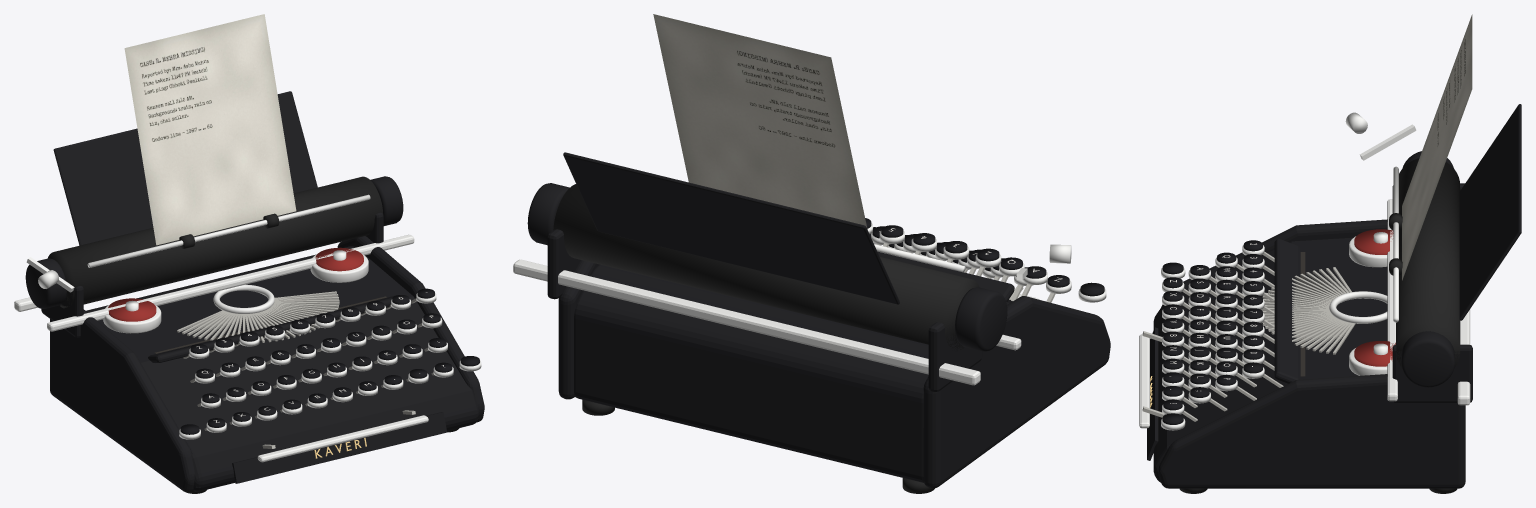
Rendered from typewriter.glb.
3 renders of one model, left to right at view 1: azimuth 30°, elevation 25°; view 2: azimuth 150°, elevation 25°; view 3: azimuth 270°, elevation 25°, orthographic. The views are drawn at different scales.
Visible parts, largest first — view 1: typewriter; view 2: typewriter; view 3: typewriter.
Part boxes in pixels (left/top/right/bottom): typewriter: left=14, top=14, right=484, bottom=493; typewriter: left=513, top=14, right=1110, bottom=493; typewriter: left=1139, top=14, right=1521, bottom=493.
Bounding box in the file's own units: 0.5559 × 0.4557 × 0.4289.
10 materials, 1 textured.
